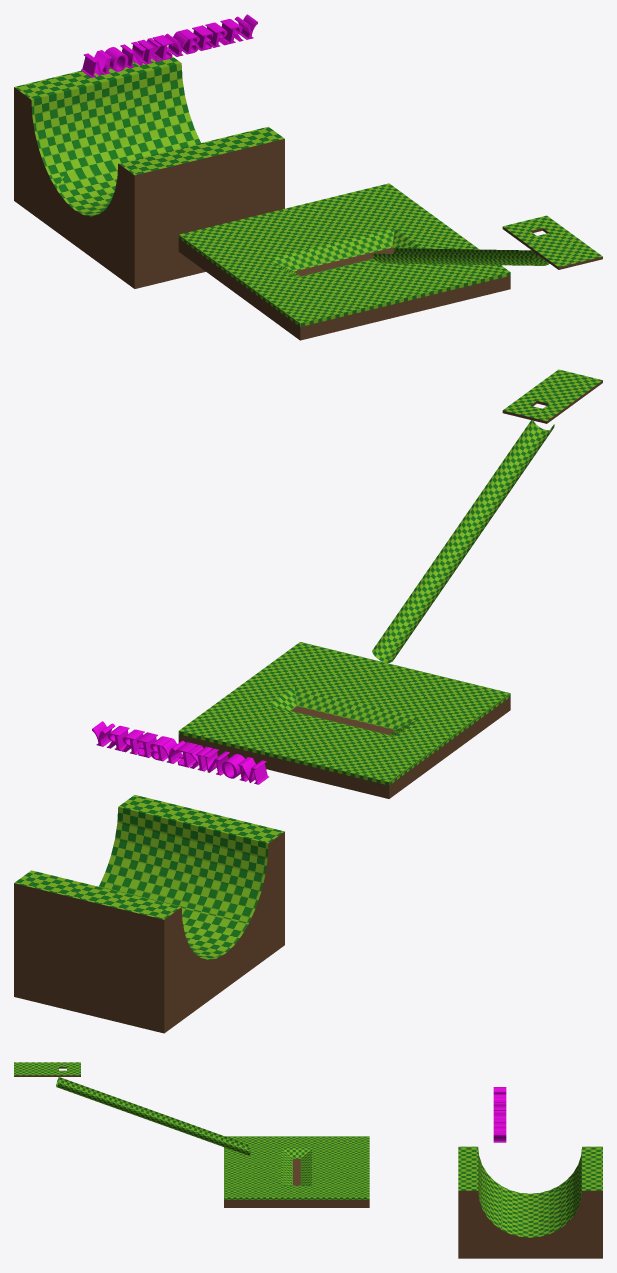
Rendered from monkeymap1.gltf.
The picture shows the model from 3 angles, top to bottom: view 1: azimuth 30°, elevation 25°; view 2: azimuth 150°, elevation 25°; view 3: azimuth 270°, elevation 25°; orthographic projection. The views are drawn at different scales.
Parts seen in each view (by area): view 1: Cylinder, Cube.002, Text, Cube, Cube.001; view 2: Cylinder, Cube.002, Cube.001, Text, Cube; view 3: Cylinder, Cube.002, Cube.001, Cube, Text.
Part boxes in pixels (x1,y1,x2,y2): Cylinder: (14, 56, 284, 288); Cube.002: (178, 183, 510, 340); Text: (81, 14, 257, 77); Cube: (502, 215, 602, 269); Cube.001: (372, 248, 549, 265); Cylinder: (14, 795, 284, 1033); Cube.002: (178, 642, 510, 798); Cube.001: (372, 420, 554, 662); Text: (92, 721, 268, 784); Cube: (502, 369, 602, 423); Cylinder: (458, 1146, 602, 1258); Cube.002: (224, 1136, 369, 1207); Cube.001: (56, 1077, 250, 1155); Cube: (14, 1062, 80, 1076); Text: (493, 1087, 506, 1142).
Size of the model in its own units: 132 by 168 by 533.
3 materials, 1 textured.
